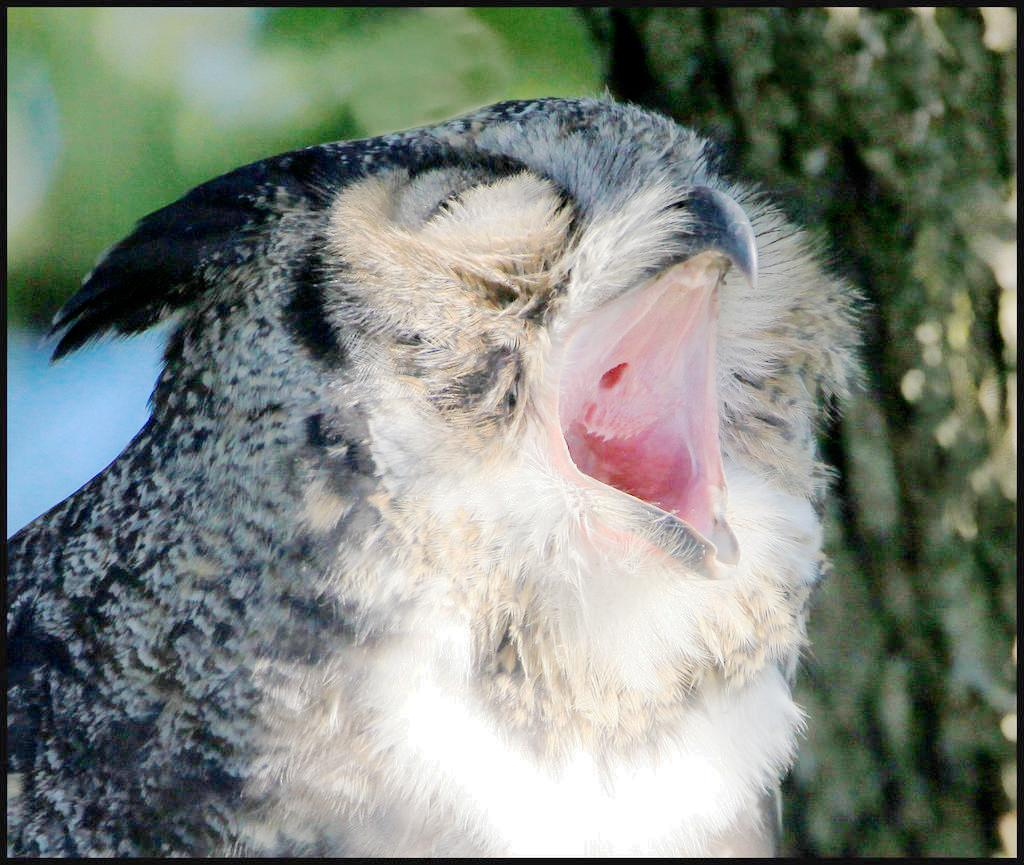Owl: (0, 91, 883, 864)
